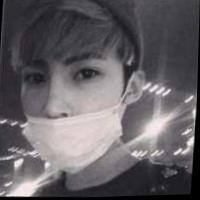WRONG: (10, 48, 137, 175)
